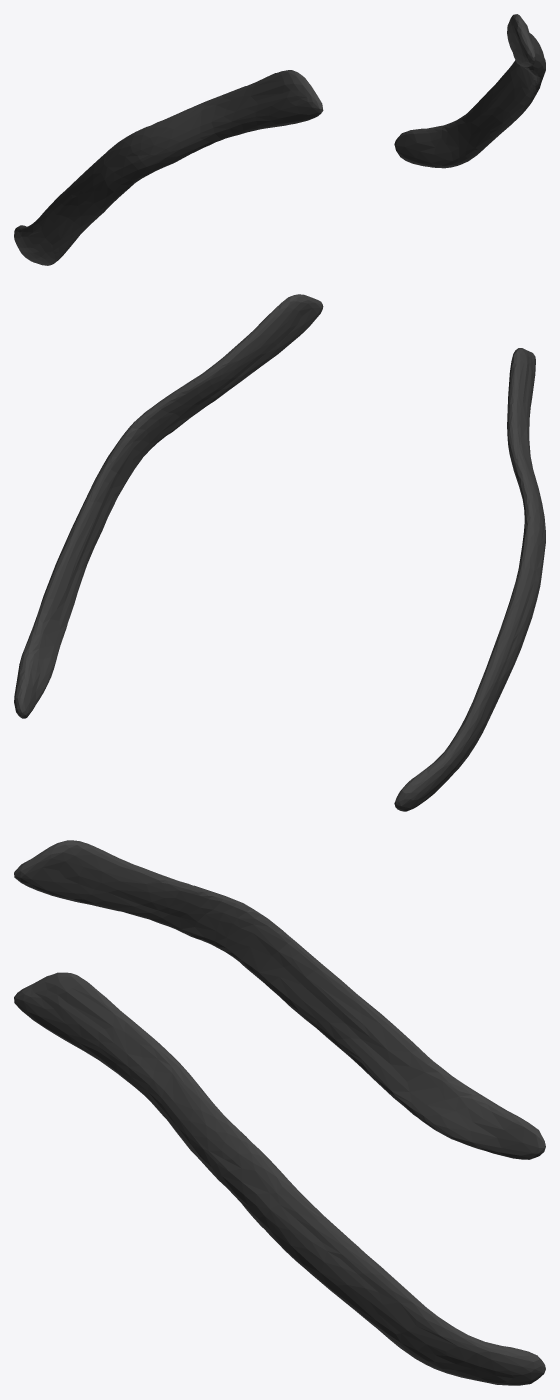
Rendered from m_zygomaticus.glb.
3 renders of one model, top to bottom at view 1: azimuth 30°, elevation 25°; view 2: azimuth 150°, elevation 25°; view 3: azimuth 270°, elevation 25°, orthographic. The views are drawn at different scales.
Visible parts, largest first — view 1: m_zygomaticus; view 2: m_zygomaticus; view 3: m_zygomaticus.
Part boxes in pixels (left/top/right/bottom): m_zygomaticus: left=14, top=14, right=545, bottom=265; m_zygomaticus: left=14, top=294, right=545, bottom=811; m_zygomaticus: left=14, top=840, right=545, bottom=1385.
Size of the model in its own units: 0.00297 by 0.00193 by 0.00255.
Materials: 1 (1 with a texture image).
